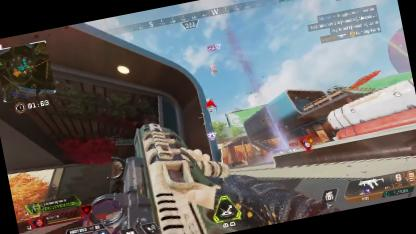Target: (209, 62, 217, 76)
